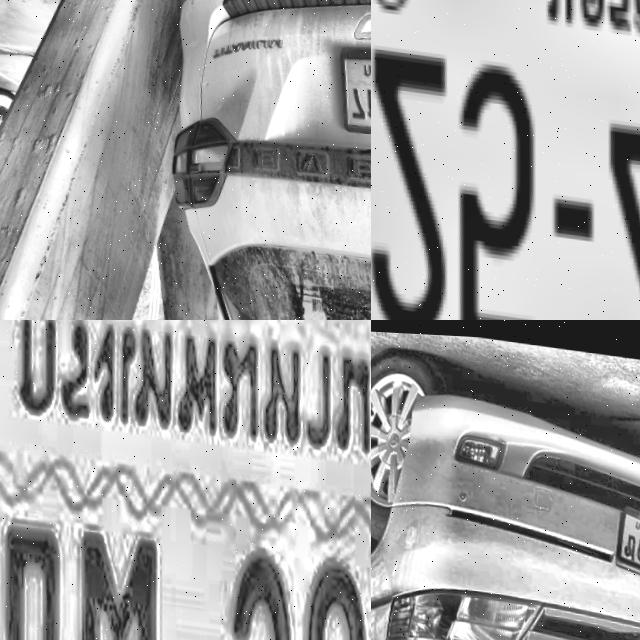license-plate: (0, 320, 371, 640), (371, 0, 640, 320), (325, 24, 371, 149), (602, 495, 640, 590)
